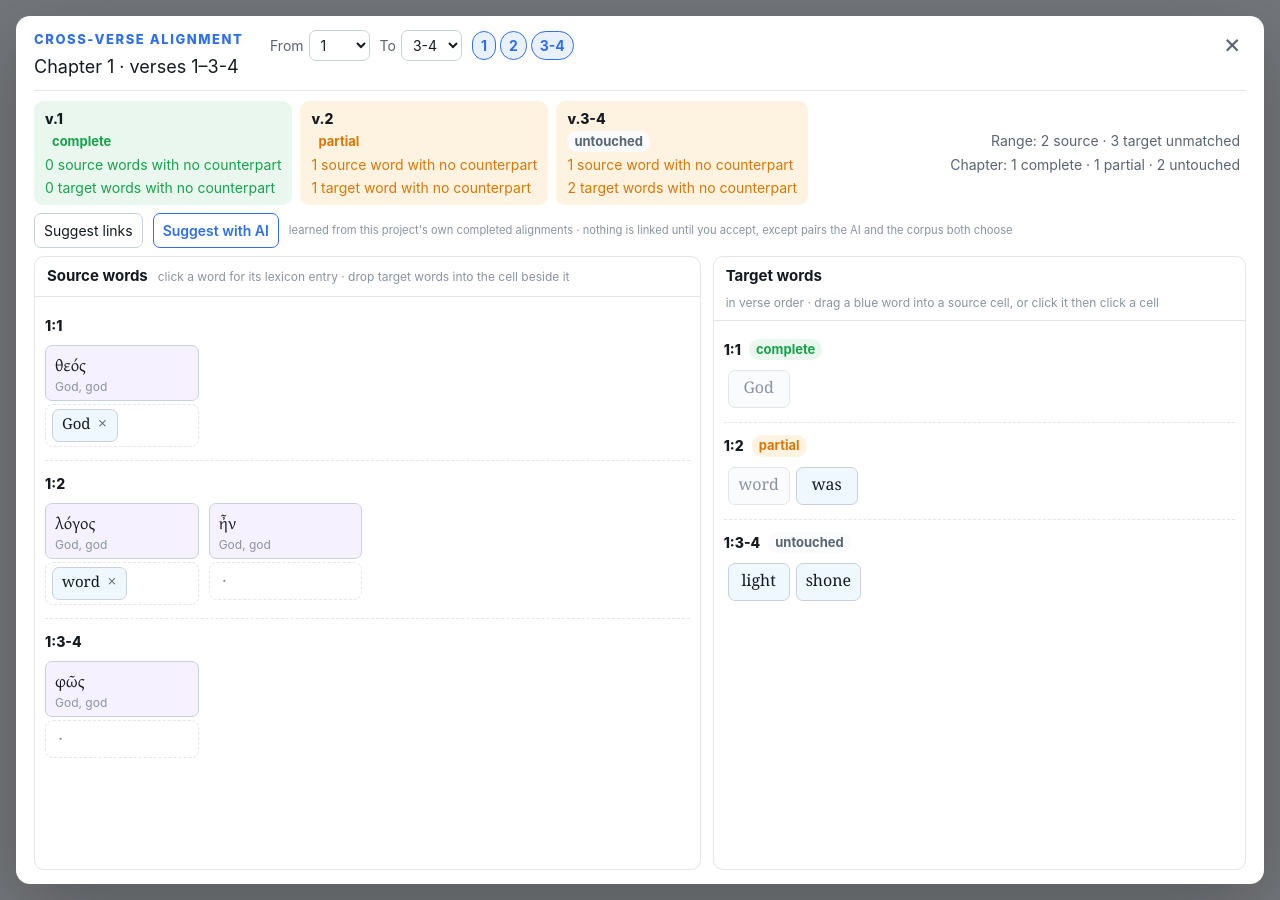
CrossVerseAlignmentModal › dropping a word into another verse's word bank is refused with guidance
Expected: the 2nd text "1:2" is shown, x1=45 y1=472 x2=65 y2=494
Click the button "was" at (827, 486), box x1=796 y1=466 x2=858 y2=504
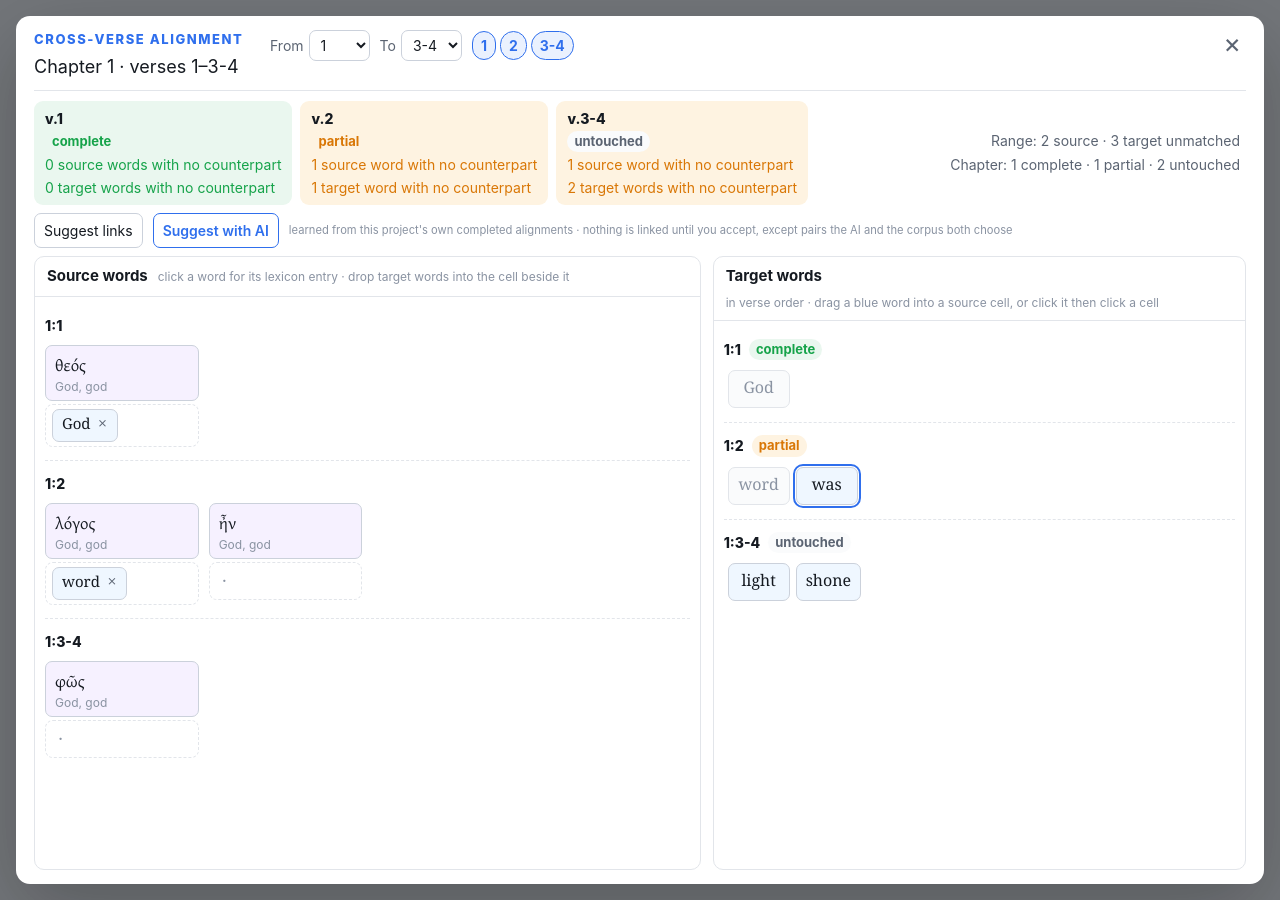
Click the button with aria-label "word bank of verse 1" at (759, 389), box x1=728 y1=370 x2=790 y2=408
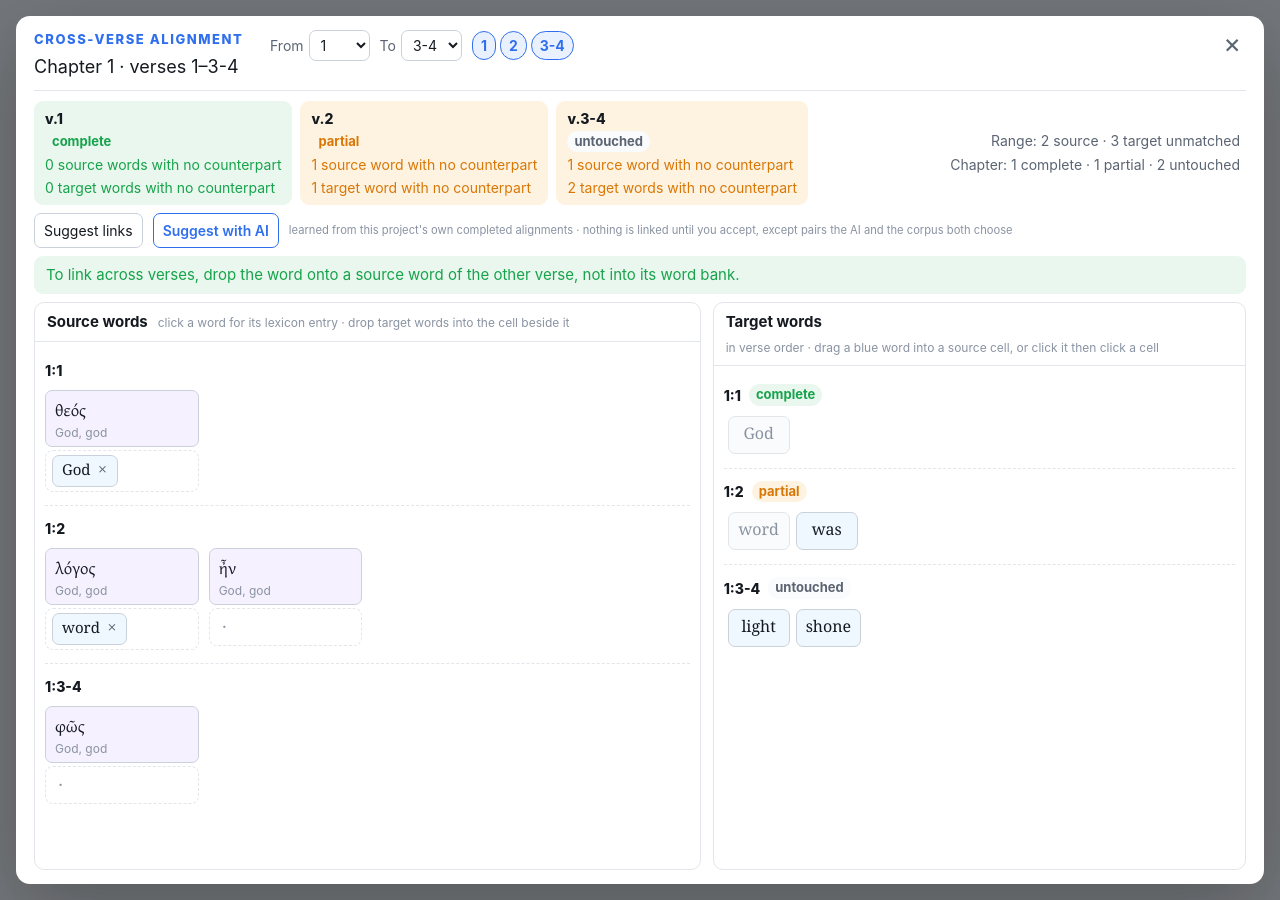
Result: the text "not into its word bank" is shown at x1=46 y1=265 x2=740 y2=284
